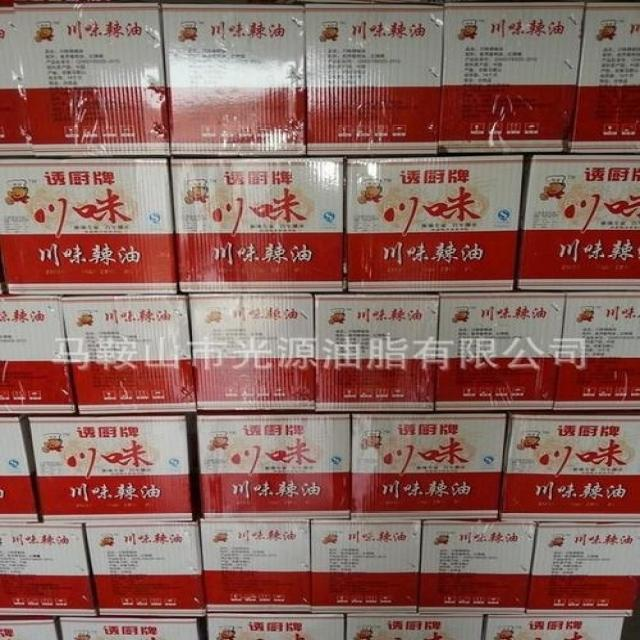box: (13, 0, 170, 160), (0, 158, 178, 297), (346, 155, 524, 292), (170, 156, 346, 293), (439, 2, 586, 155), (305, 2, 444, 157), (28, 415, 193, 526), (516, 154, 640, 291), (197, 413, 351, 520), (351, 414, 507, 519), (61, 296, 197, 415), (499, 412, 640, 526), (434, 292, 567, 412), (187, 292, 316, 411), (315, 293, 439, 412), (84, 522, 205, 617), (416, 521, 536, 616), (526, 522, 640, 618), (570, 1, 640, 153), (554, 292, 640, 411), (200, 520, 311, 612), (310, 521, 422, 612), (0, 524, 97, 617), (0, 298, 76, 414), (0, 0, 31, 159), (0, 414, 40, 523), (205, 613, 346, 640), (347, 613, 484, 640), (486, 614, 625, 640), (58, 617, 198, 640), (0, 620, 58, 640)
